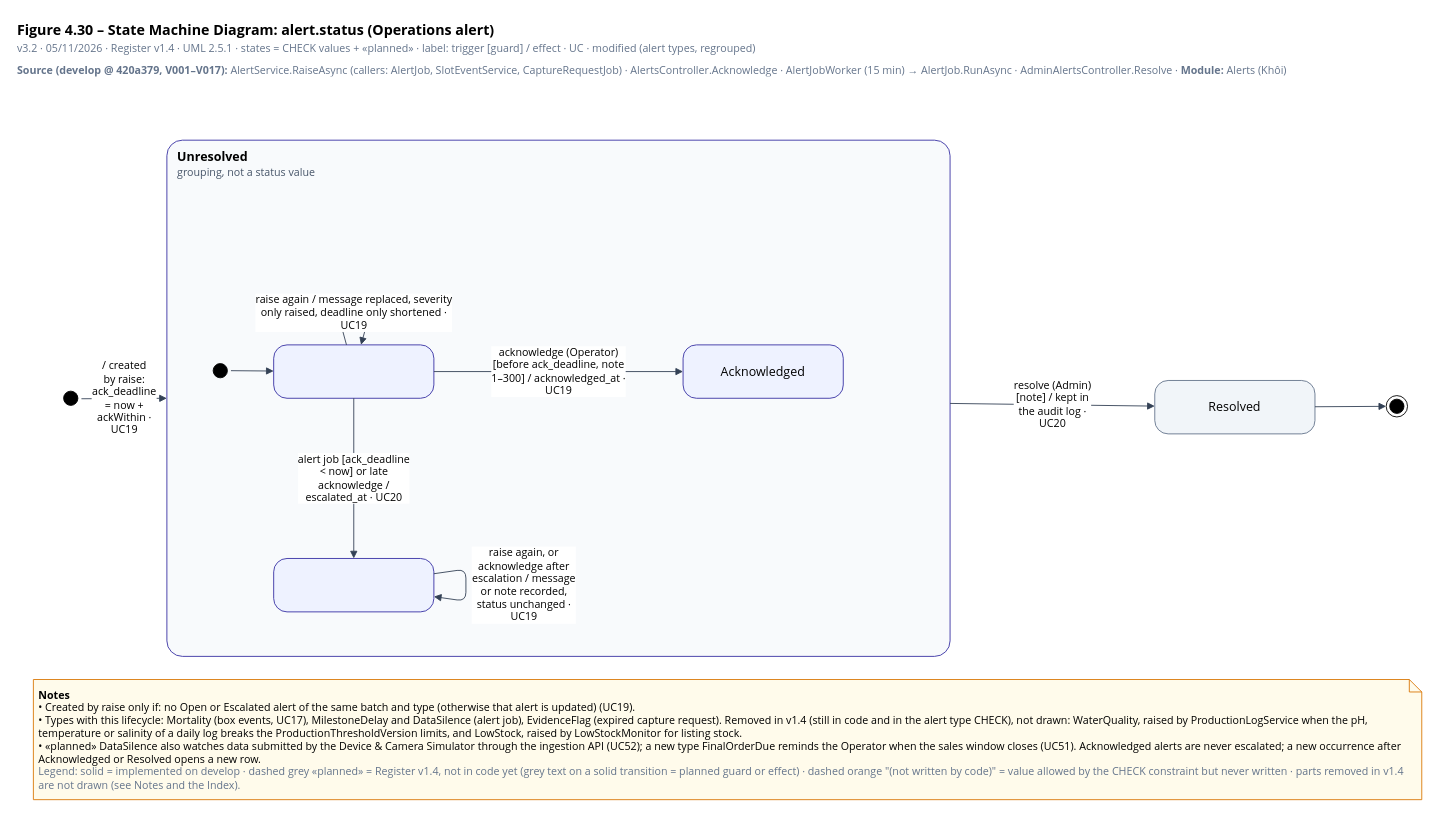
The diagram is 1454 pixels wide and 815 high, and some of its shapes have lost their labels. Each missing label, with the box of its shape:
Escalated: (273, 558, 434, 612)
Open: (273, 344, 434, 398)
